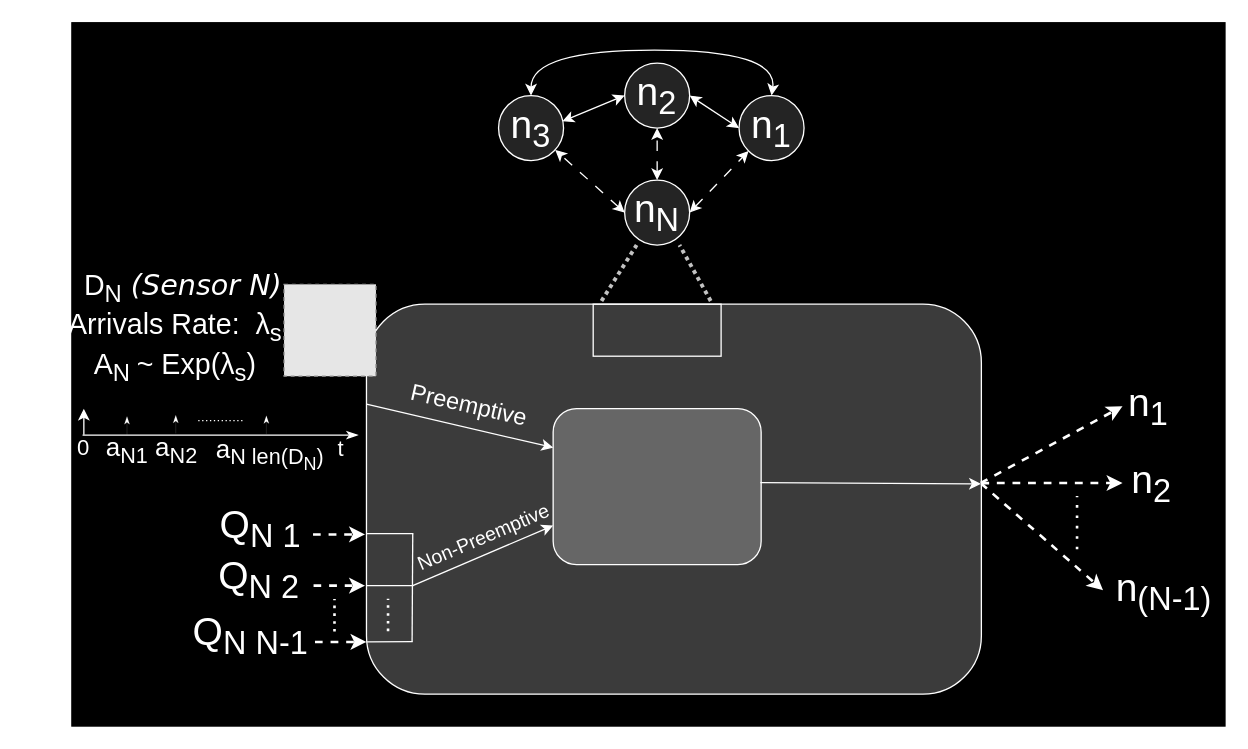
Image size: 1248x749. Some labels were removed from this diagram. Grey dashed boxes stand in for pictures. The box of each missing label's shape, as (x1, y1, x2, y2) in pixels:
ILVQ Model N: (552, 407, 761, 565)
Node N: (592, 303, 721, 356)
